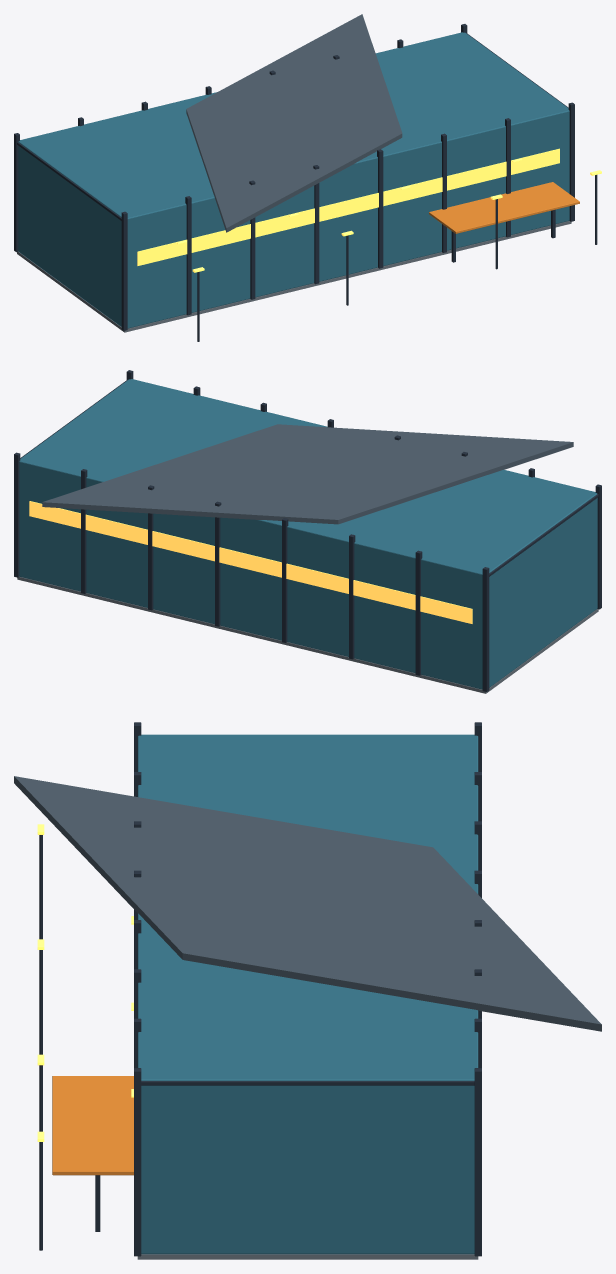
The model's file is material-processing-medium.glb.
The picture shows the model from 3 angles, top to bottom: view 1: azimuth 30°, elevation 25°; view 2: azimuth 150°, elevation 25°; view 3: azimuth 270°, elevation 25°; orthographic projection. The views are drawn at different scales.
Parts seen in each view (by area): view 1: processing_hall, processing_hall_roof, continuous_window, loading_bay_canopy, processing_foundation, steel_column, steel_column.002, steel_column.008, steel_column.014, steel_column.006, steel_column.001, steel_column.010 (+2 smaller); view 2: processing_hall, processing_hall_roof, continuous_window.001, processing_foundation, steel_column.001, steel_column.003, steel_column.015, steel_column.005, steel_column.007, steel_column.009, steel_column, steel_column.013 (+2 smaller); view 3: processing_hall, processing_hall_roof, loading_bay_canopy, processing_foundation, roof_truss.007, steel_column.014, steel_column.015.
Boxes of the visible parts, left/top/right/bottom form: processing_hall: left=18, top=32, right=569, bottom=328; processing_hall_roof: left=186, top=14, right=402, bottom=232; continuous_window: left=137, top=148, right=559, bottom=265; loading_bay_canopy: left=429, top=182, right=579, bottom=233; processing_foundation: left=17, top=221, right=571, bottom=332; steel_column: left=121, top=211, right=127, bottom=330; steel_column.002: left=185, top=196, right=191, bottom=315; steel_column.008: left=377, top=149, right=383, bottom=268; steel_column.014: left=568, top=102, right=574, bottom=221; steel_column.006: left=313, top=165, right=319, bottom=284; steel_column.001: left=14, top=133, right=19, bottom=252; steel_column.010: left=441, top=133, right=446, bottom=252; processing_hall: left=19, top=379, right=597, bottom=689; processing_hall_roof: left=42, top=424, right=573, bottom=524; continuous_window.001: left=29, top=501, right=472, bottom=623; processing_foundation: left=17, top=576, right=598, bottom=693; steel_column.001: left=482, top=567, right=489, bottom=691; steel_column.003: left=415, top=550, right=422, bottom=675; steel_column.015: left=14, top=452, right=20, bottom=577; steel_column.005: left=349, top=534, right=355, bottom=659; steel_column.007: left=282, top=518, right=288, bottom=642; steel_column.009: left=215, top=501, right=221, bottom=626; steel_column: left=595, top=484, right=601, bottom=609; steel_column.013: left=81, top=469, right=87, bottom=593; processing_hall: left=137, top=734, right=478, bottom=1254; processing_hall_roof: left=14, top=776, right=601, bottom=1031; loading_bay_canopy: left=52, top=1076, right=133, bottom=1175; processing_foundation: left=137, top=1254, right=478, bottom=1259; roof_truss.007: left=141, top=1081, right=474, bottom=1085; steel_column.014: left=134, top=1068, right=141, bottom=1256; steel_column.015: left=474, top=1068, right=481, bottom=1256.
Bounding box in the file's own units: 72.65 × 18.45 × 51.76.
